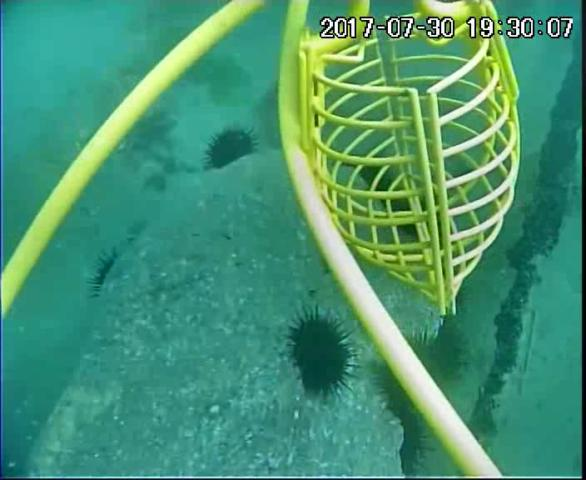echinus: (288, 312, 350, 393), (206, 129, 254, 169)
